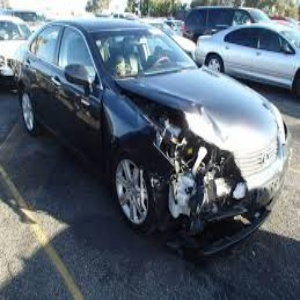bonnet: (154, 75, 237, 138)
bumper: (164, 158, 247, 258)
